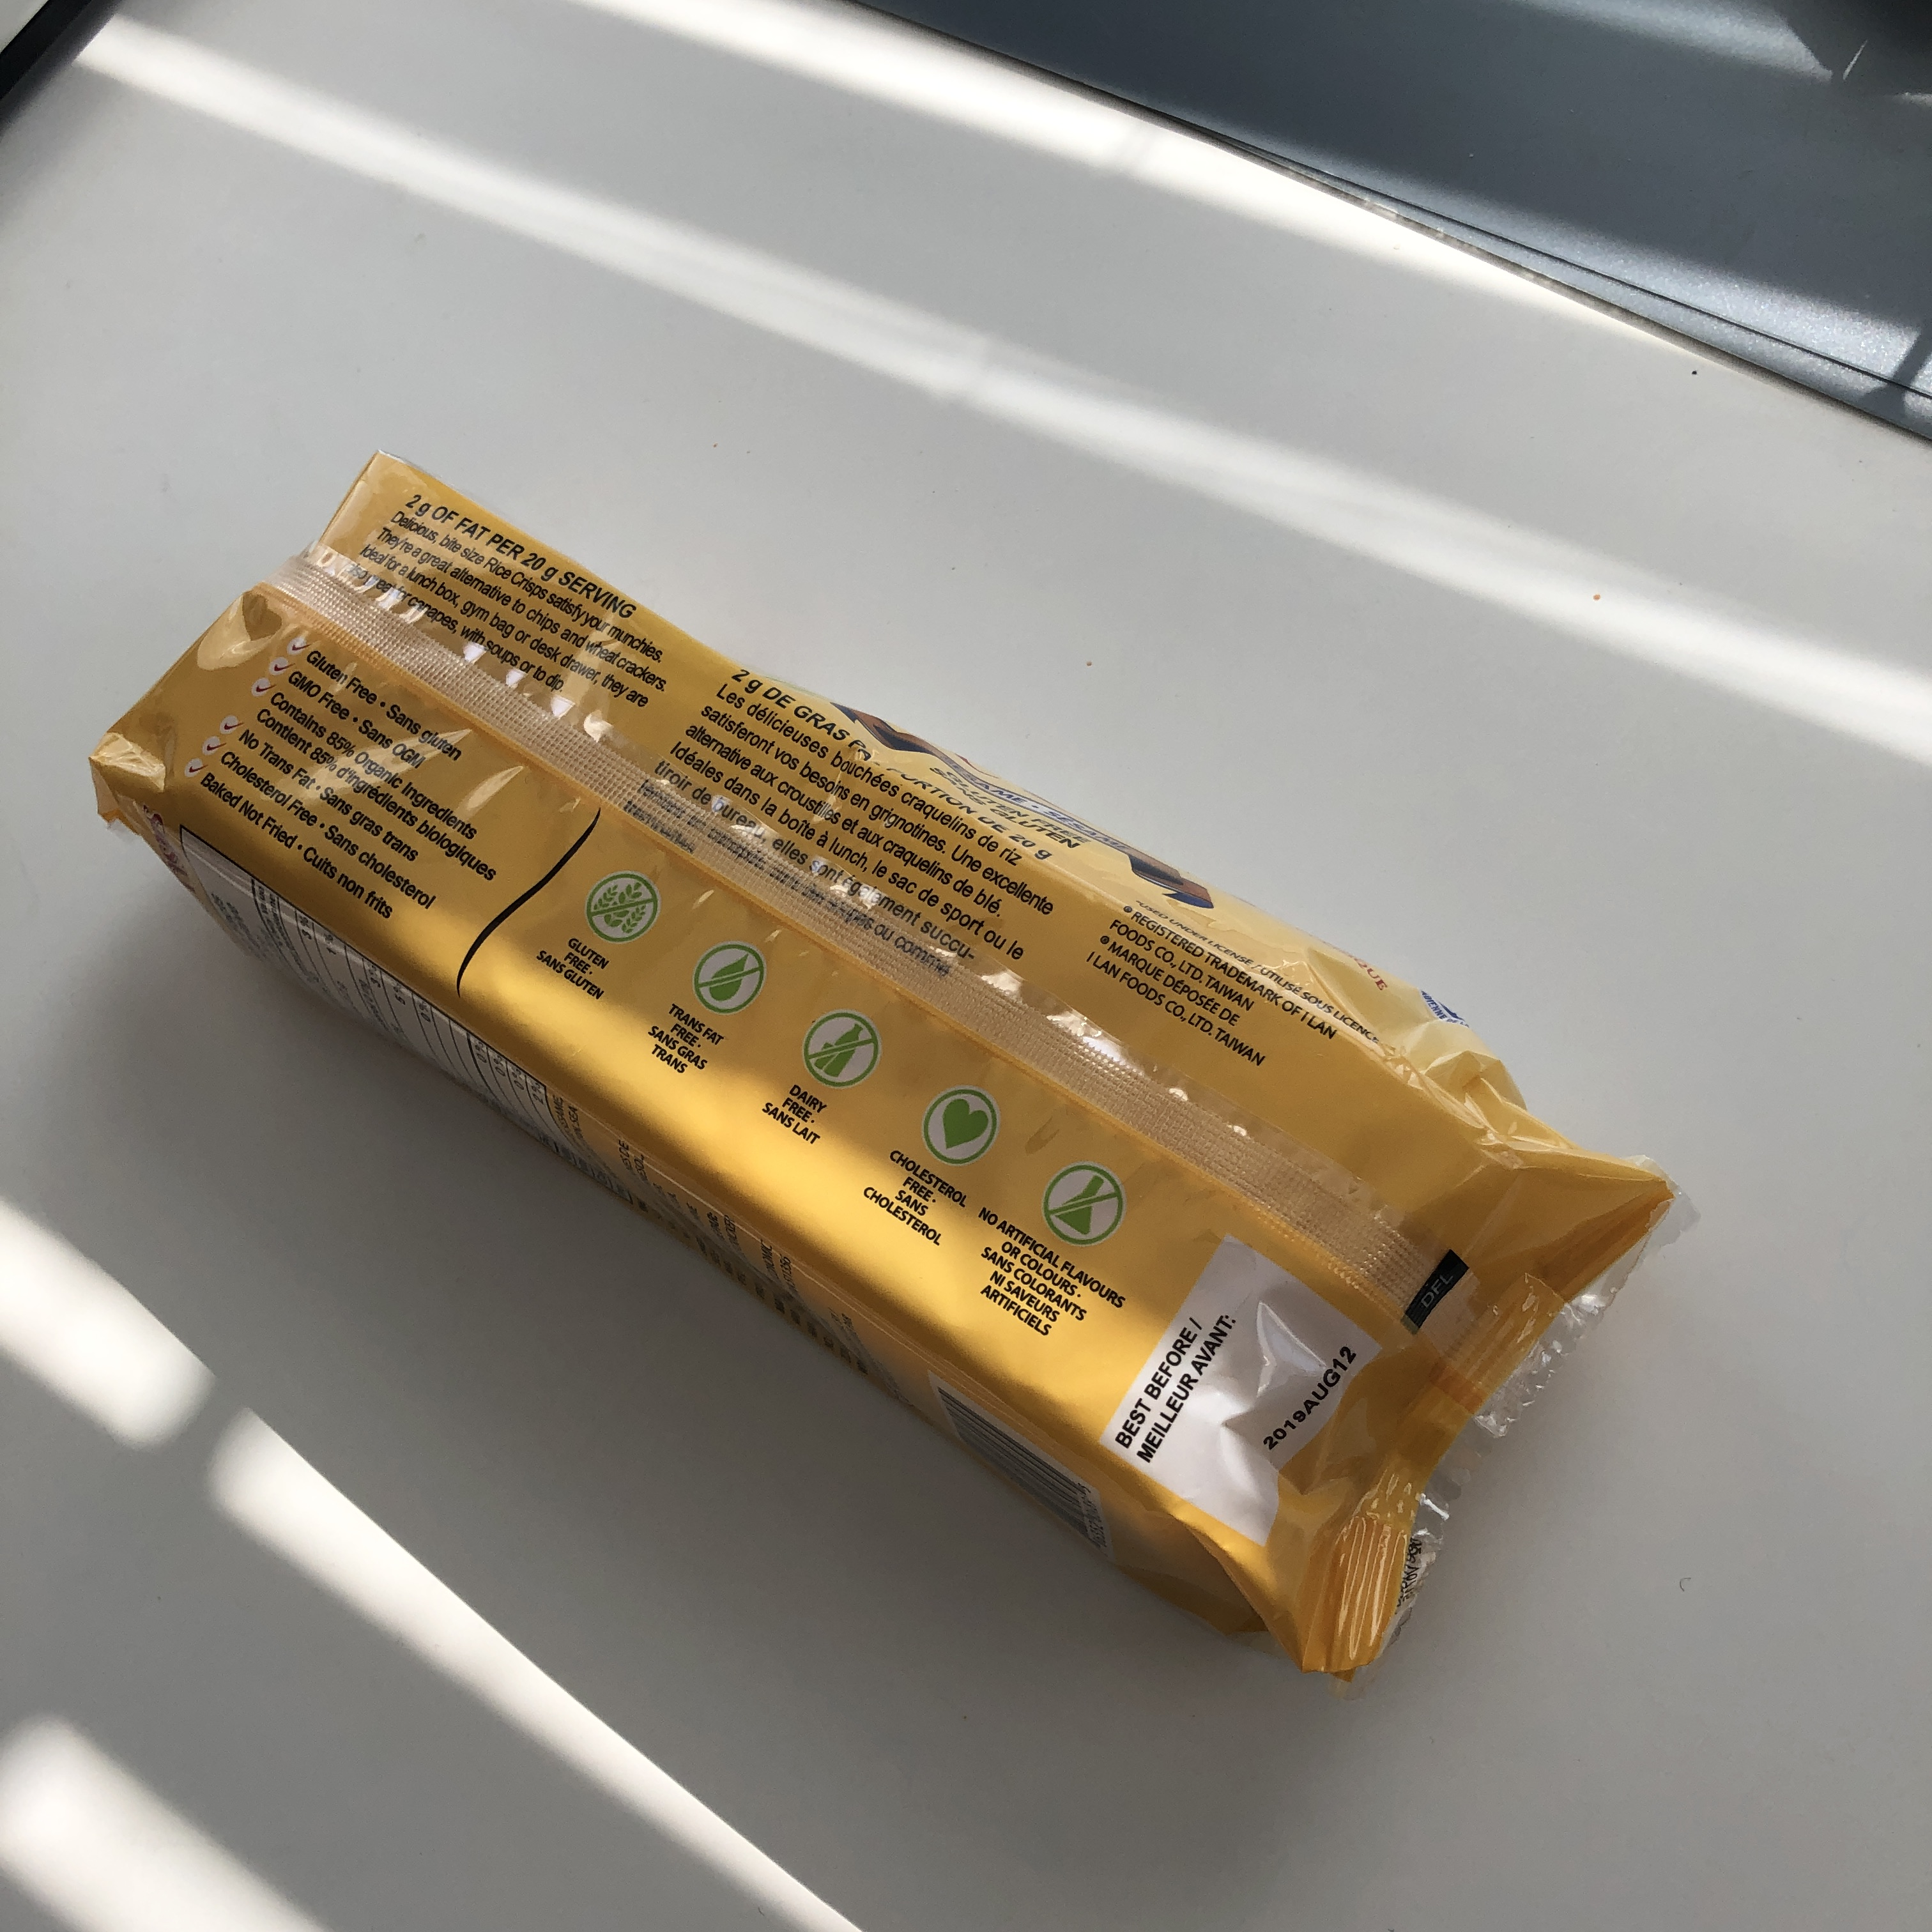hot_kid_rice_crisps_sesame: (648, 354, 1532, 1837)
